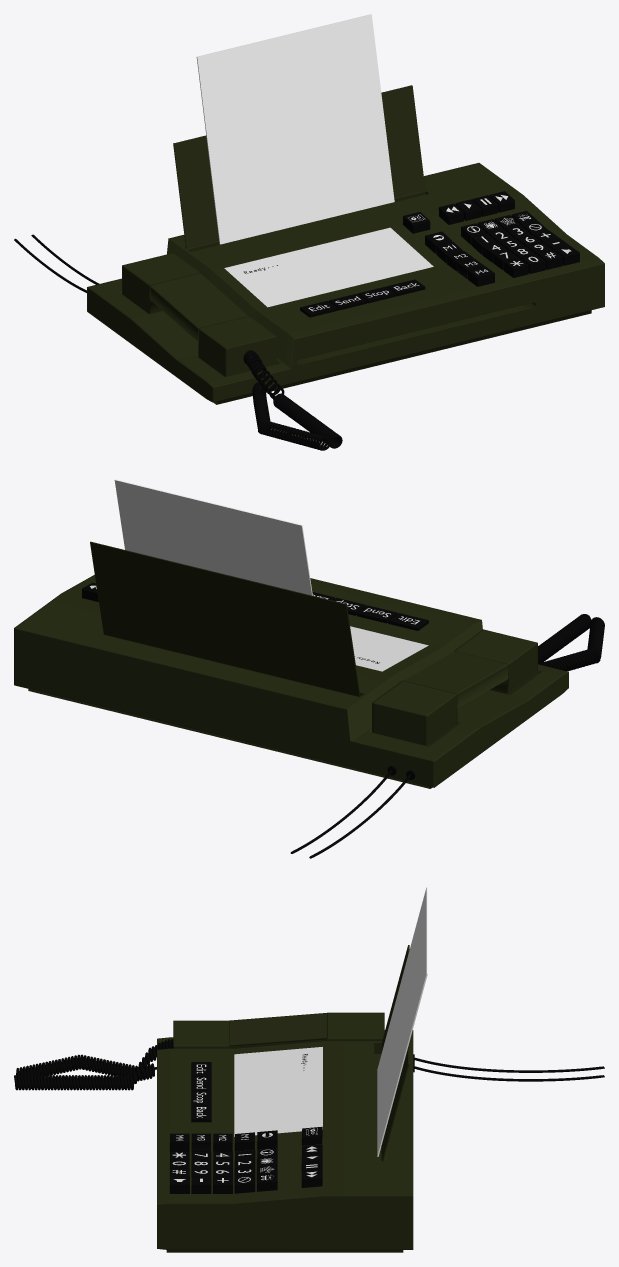
The model's file is Fax1.fbx.
3 views of the same model, one above another, from view 1: azimuth 30°, elevation 25°; view 2: azimuth 150°, elevation 25°; view 3: azimuth 270°, elevation 25° (orthographic). The views are drawn at different scales.
Parts seen in each view (by area): view 1: Fax, Paper, Wire; view 2: Fax, Paper, Wire; view 3: Fax, Paper, Wire, NurbsCurve.001, NurbsCurve.
Part boxes in pixels (<box>): Fax: <box>87,85,604,404</box>; Paper: <box>196,14,394,244</box>; Wire: <box>243,350,342,450</box>; Fax: <box>14,541,568,788</box>; Paper: <box>114,479,312,595</box>; Wire: <box>538,614,604,671</box>; Fax: <box>157,945,414,1252</box>; Paper: <box>377,887,427,1156</box>; Wire: <box>14,1039,173,1090</box>; NurbsCurve.001: <box>414,1066,604,1081</box>; NurbsCurve: <box>414,1057,604,1072</box>.
Size of the model in its own units: 360 by 201 by 461.
